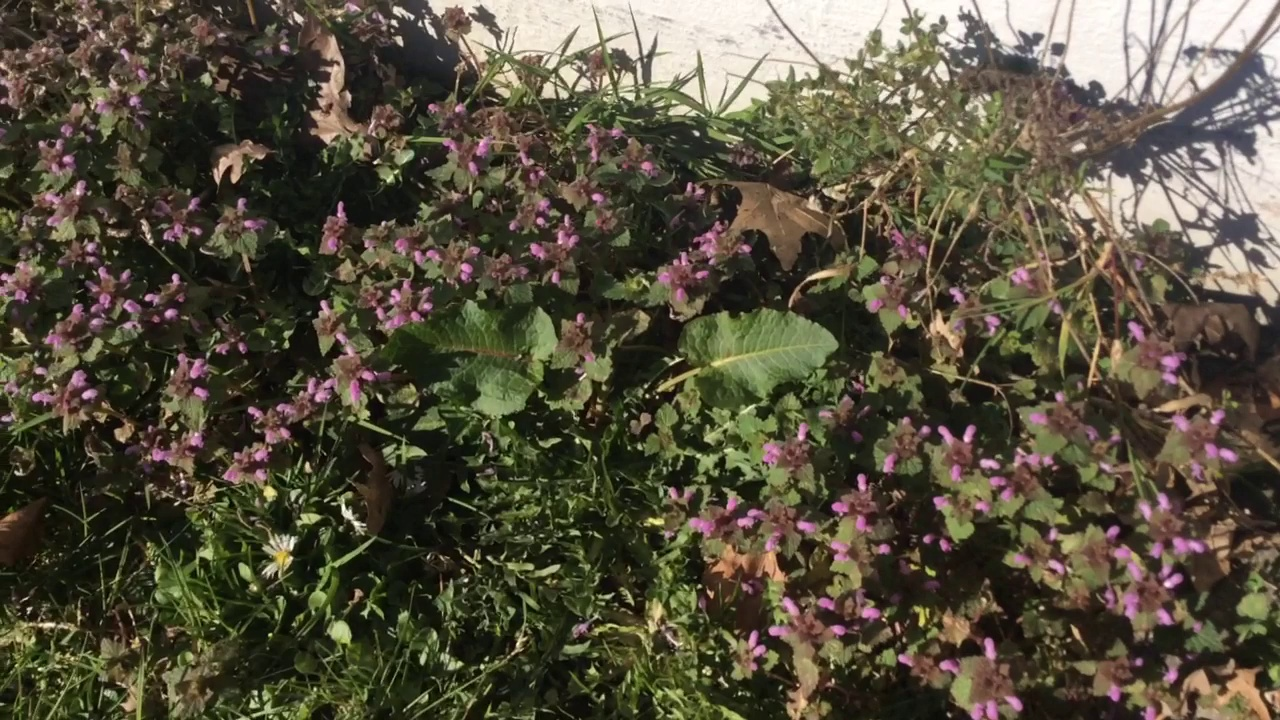rumex: (361, 298, 839, 420)
